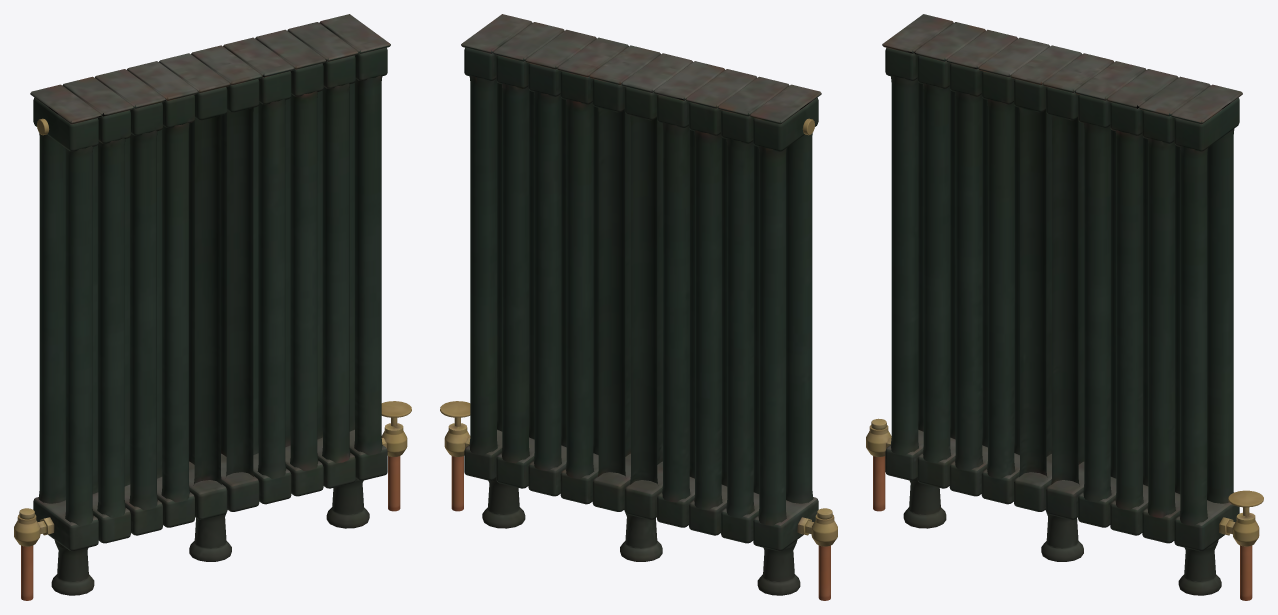
The model's file is column-radiator-10.glb.
The picture shows the model from 3 angles, left to right: view 1: azimuth 30°, elevation 25°; view 2: azimuth 150°, elevation 25°; view 3: azimuth 330°, elevation 25°; orthographic projection.
Parts seen in each view (by area): view 1: radiator; view 2: radiator; view 3: radiator, valve_wheel.
Part boxes in pixels (bbox=[...]): radiator: bbox=[14, 14, 407, 600]; radiator: bbox=[444, 14, 837, 600]; radiator: bbox=[866, 14, 1259, 600]; valve_wheel: bbox=[1228, 490, 1263, 516].
Size of the model in its own units: 0.583 by 0.6875 by 0.106.
1 material, 1 textured.
